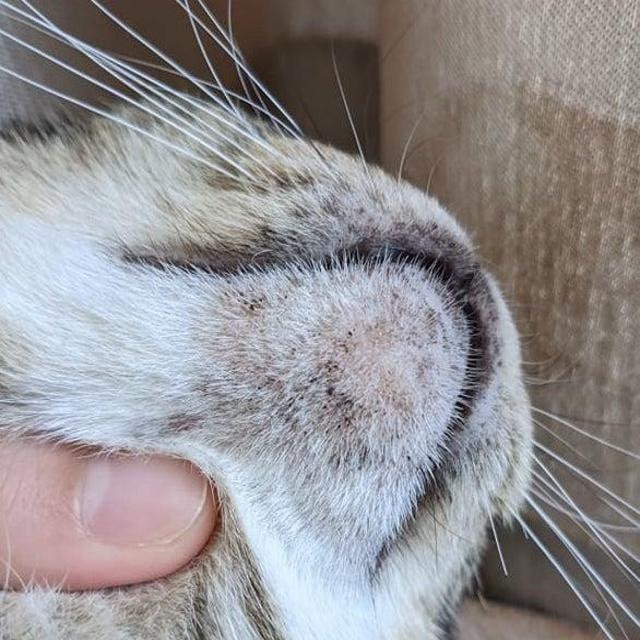acne: (196, 283, 425, 477)
